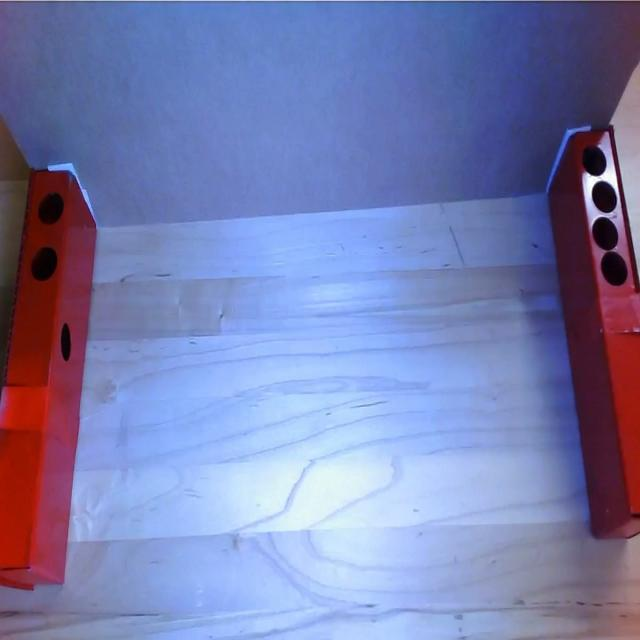Hole: (31, 246, 58, 282), (601, 252, 628, 286), (592, 217, 618, 251), (38, 192, 64, 224), (592, 181, 617, 213), (582, 146, 606, 176), (61, 322, 71, 362)
